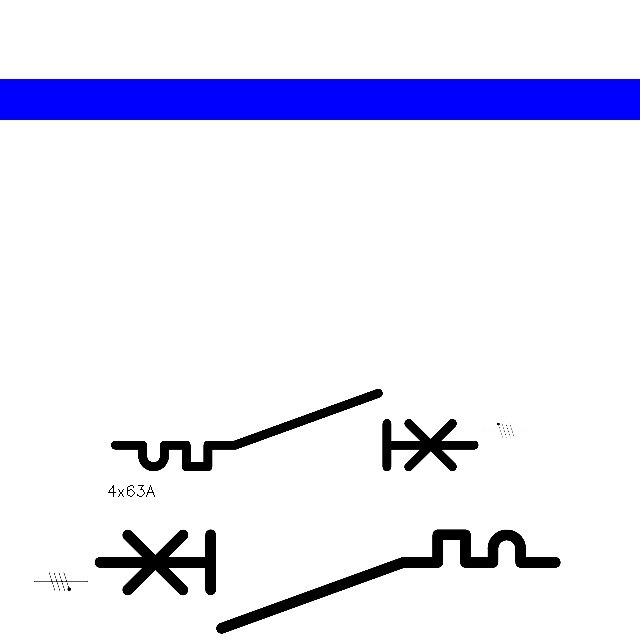interruptor_termomagnetico: (88, 523, 567, 640), (106, 384, 483, 476)
